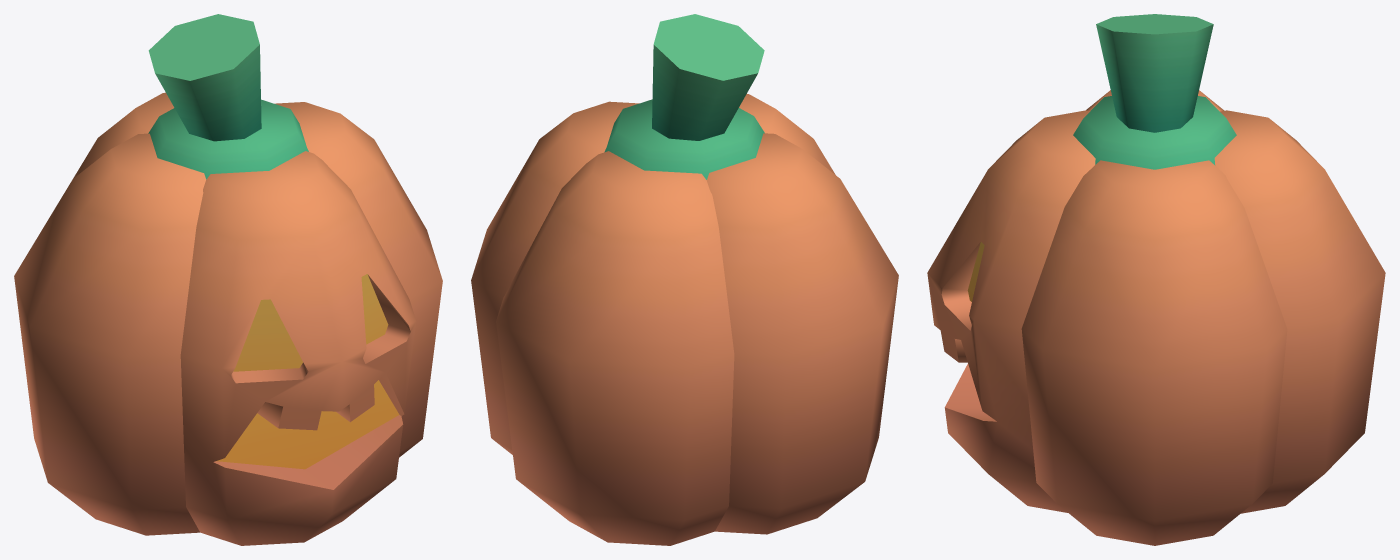
Rendered from pumpkin-tall-carved.glb.
3 views of the same model, side by side, from view 1: azimuth 30°, elevation 25°; view 2: azimuth 150°, elevation 25°; view 3: azimuth 270°, elevation 25° (orthographic).
Visible parts, largest first — view 1: pumpkin-tall-carved; view 2: pumpkin-tall-carved; view 3: pumpkin-tall-carved.
Boxes of the visible parts, <box> form: pumpkin-tall-carved: <box>14,14,442,545</box>; pumpkin-tall-carved: <box>471,14,898,545</box>; pumpkin-tall-carved: <box>927,14,1385,545</box>.
Bounding box in the file's own units: 0.3255 × 0.3597 × 0.3255.
Materials: 1 (1 with a texture image).
